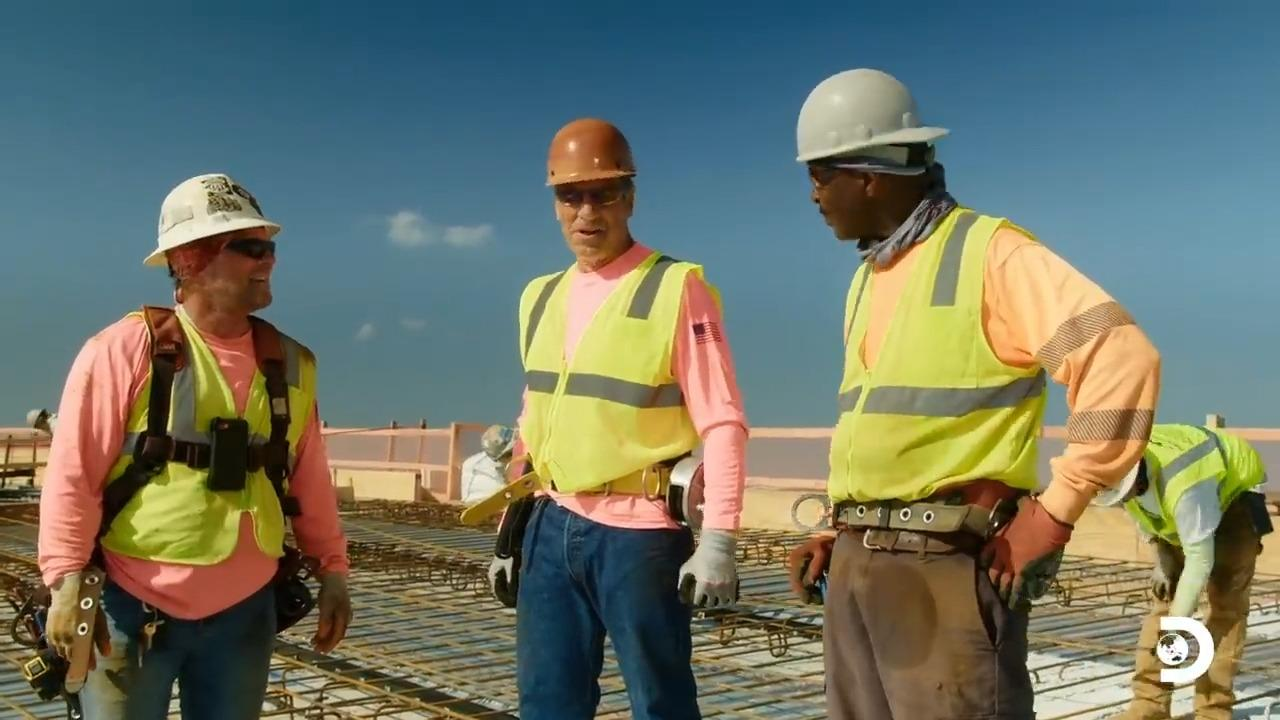Gloves: (987, 505, 1075, 608), (34, 583, 127, 666), (678, 529, 740, 620), (306, 563, 354, 650)
Helmet: (794, 67, 950, 173), (142, 172, 281, 267), (544, 117, 636, 187)
Person: (786, 66, 1162, 719), (36, 172, 352, 719), (496, 116, 749, 719), (1090, 422, 1273, 719)
Safety Vest: (85, 321, 306, 546), (845, 259, 1015, 487), (527, 281, 681, 483)
